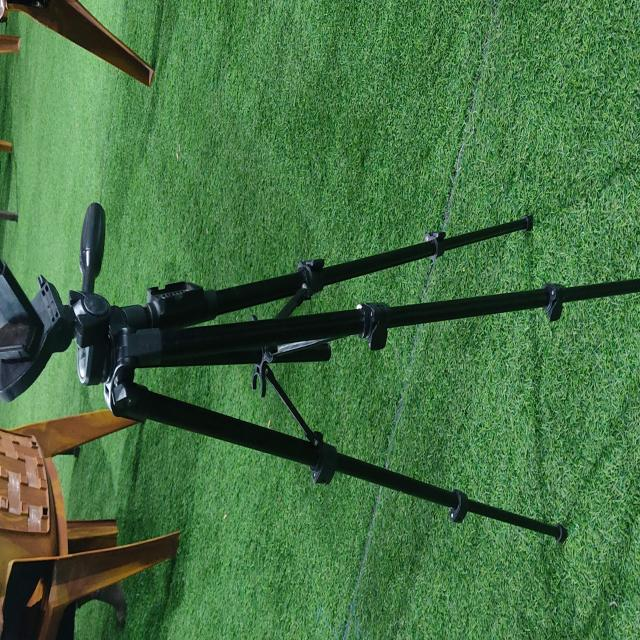Camer Stand: (1, 201, 638, 549)
